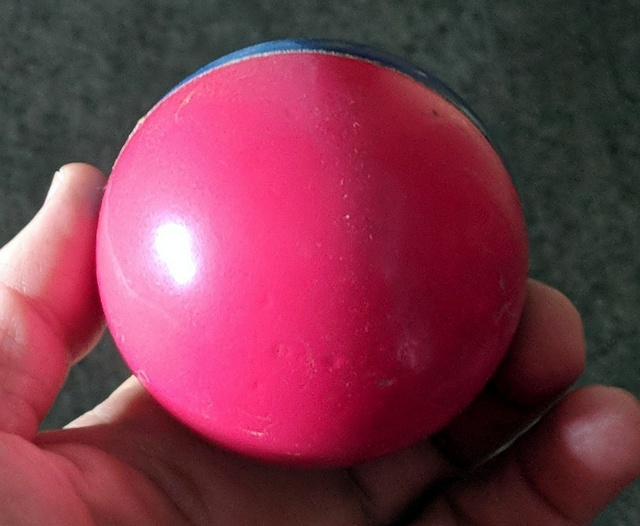ball: (97, 52, 527, 471)
